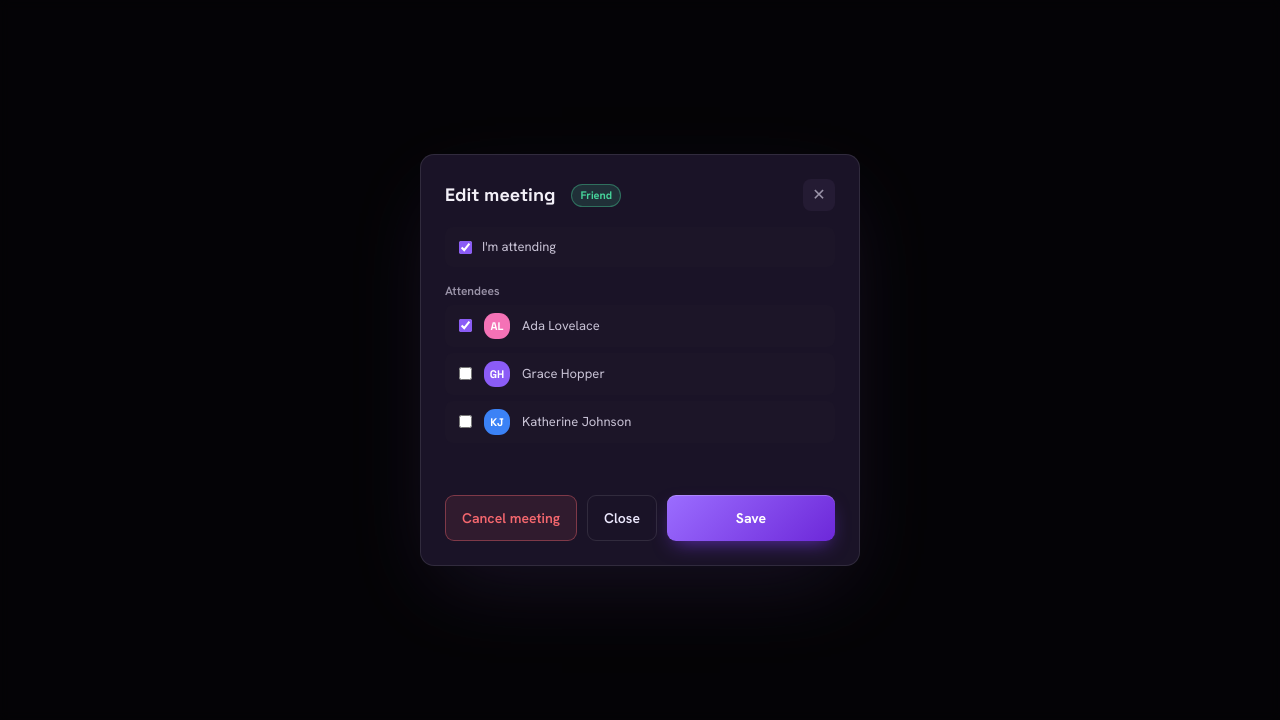
it: MeetingEditModal › unchecking "I'm attending" with only one other attendee derives Connection and requires a second attendee to save
Expected: the text "Grace Hopper" is shown, 522,365 -> 605,382
Click the checkbox labelled "I'm attending".
click(466, 247)  # box 459,240 -> 472,254
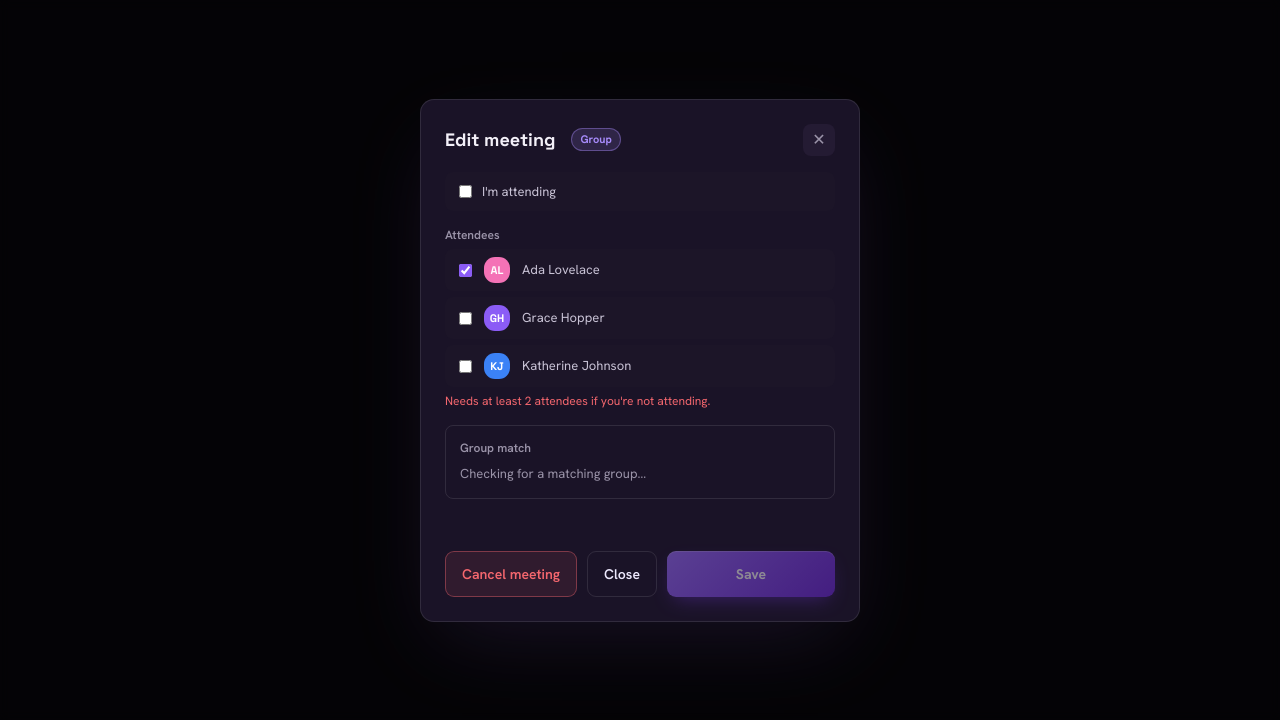
Result: the button "Save" is disabled at 667,550 -> 835,596
Click the checkbox labelled "GH Grace Hopper".
click(466, 318)  # box 459,312 -> 472,324
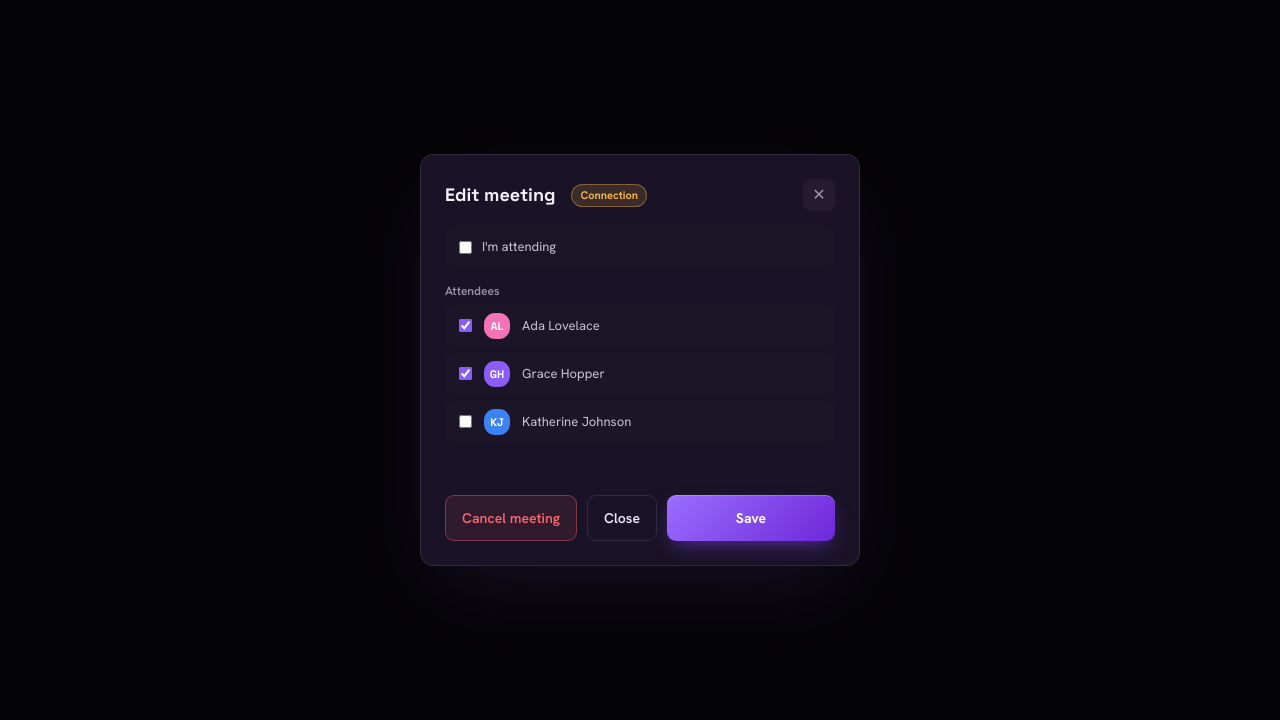
Result: the text with test id "derived-type-badge" reads "Connection" at 580,188 -> 638,202
Result: the button "Save" is enabled at 667,495 -> 835,541
